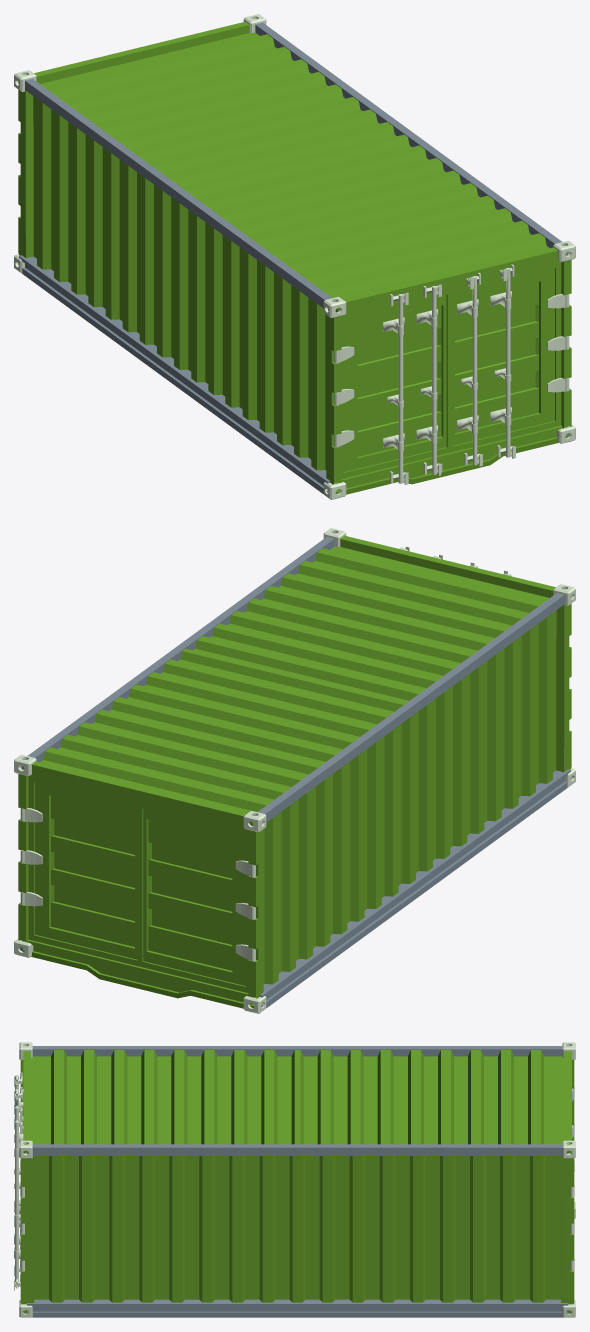
File: shippingcontainer[green].fbx
3 renders of one model, top to bottom at view 1: azimuth 30°, elevation 25°; view 2: azimuth 150°, elevation 25°; view 3: azimuth 270°, elevation 25°, orthographic. The views are drawn at different scales.
Visible parts, largest first — view 1: Green; view 2: Green; view 3: Green.
Part boxes in pixels (x1,y1,x2,y2): Green: [14, 14, 575, 499]; Green: [14, 528, 575, 1013]; Green: [14, 1042, 575, 1317].
Bounding box in the file's own units: 277 × 623 × 216.
